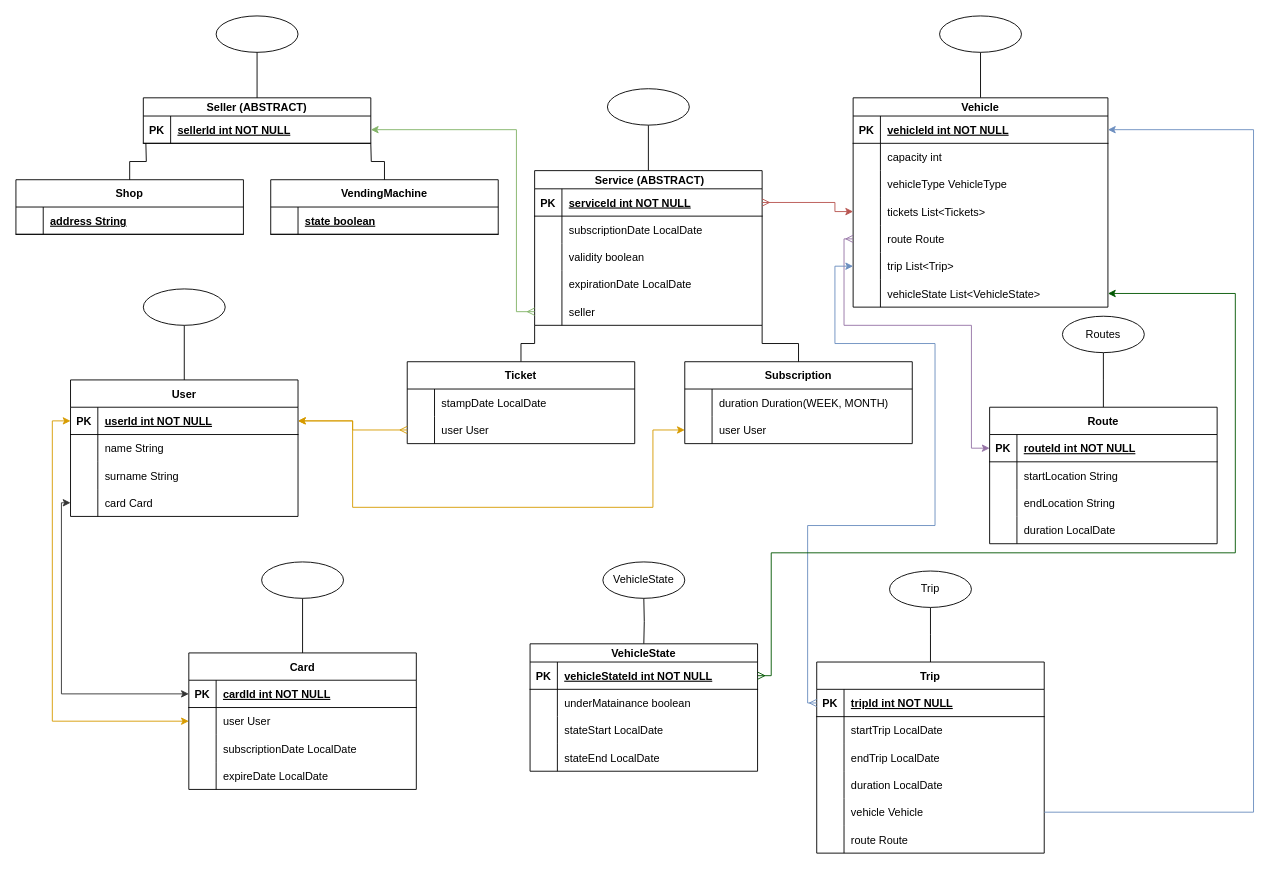
Image size: 1277x869. Some labels were removed from this diagram. Here are the shapes that lost their labels. From the top down, the centre of each, then its label:
the point at 256,33: Sellers
the point at 980,33: Vehicles
the point at 648,106: Tickets
the point at 183,306: Users
the point at 302,579: Cards
